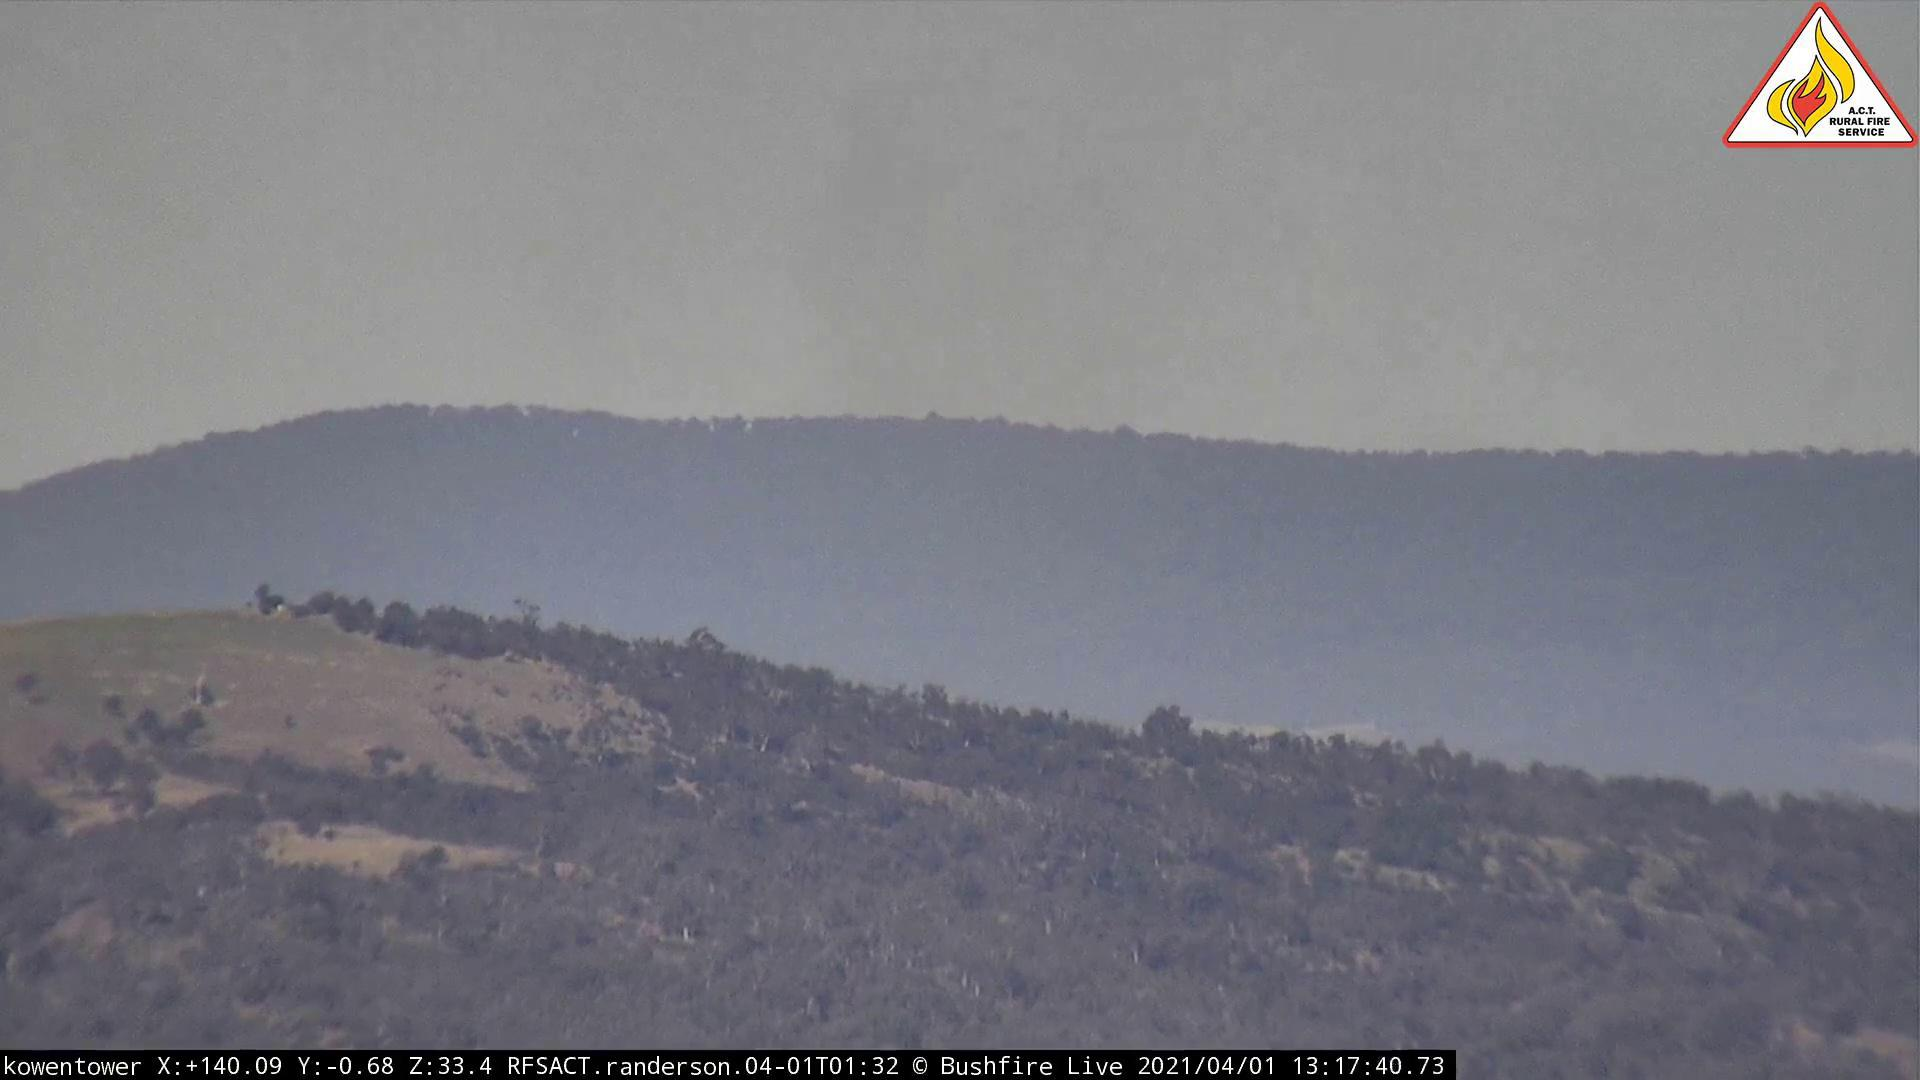Smoke: (754, 40, 1511, 770)
